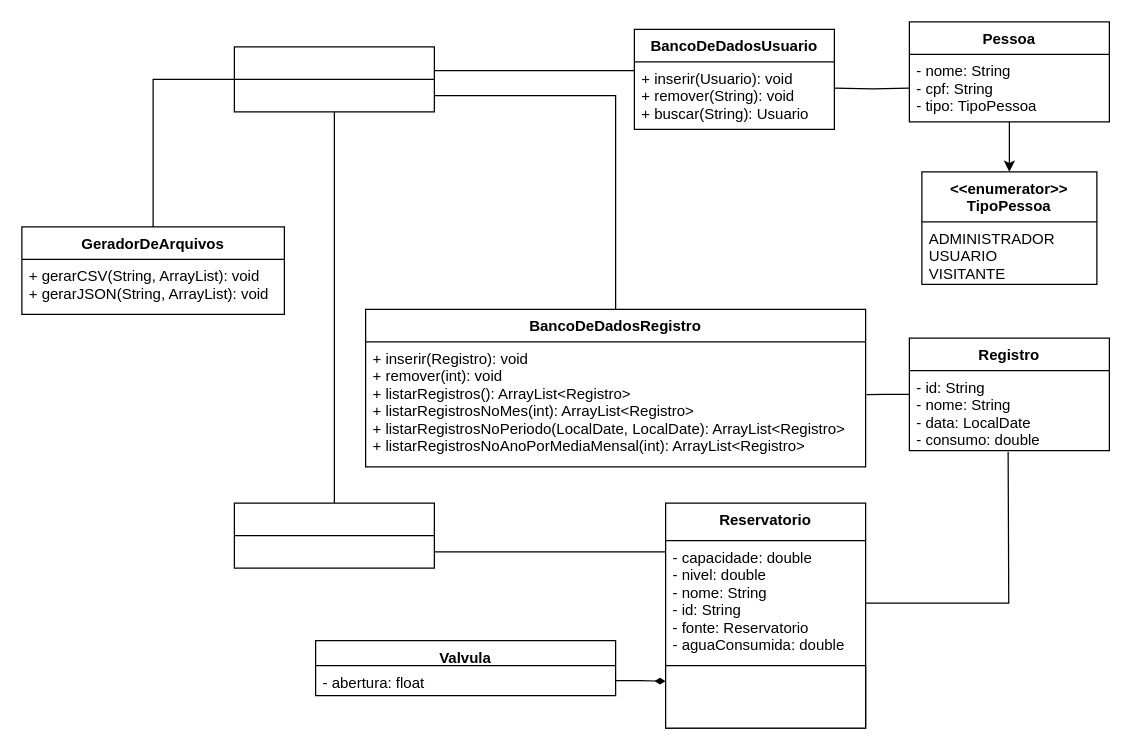
The diagram is 1131 pixels wide and 750 high, and some of its shapes have lost their labels. The centre of each missing label's shape, as x and y in pixels:
"+ fornecer(double qtd): void + captar(double qtd): void" goes at (765,696).
"Controlador" goes at (333,79).
"Repositorio" goes at (333,535).
